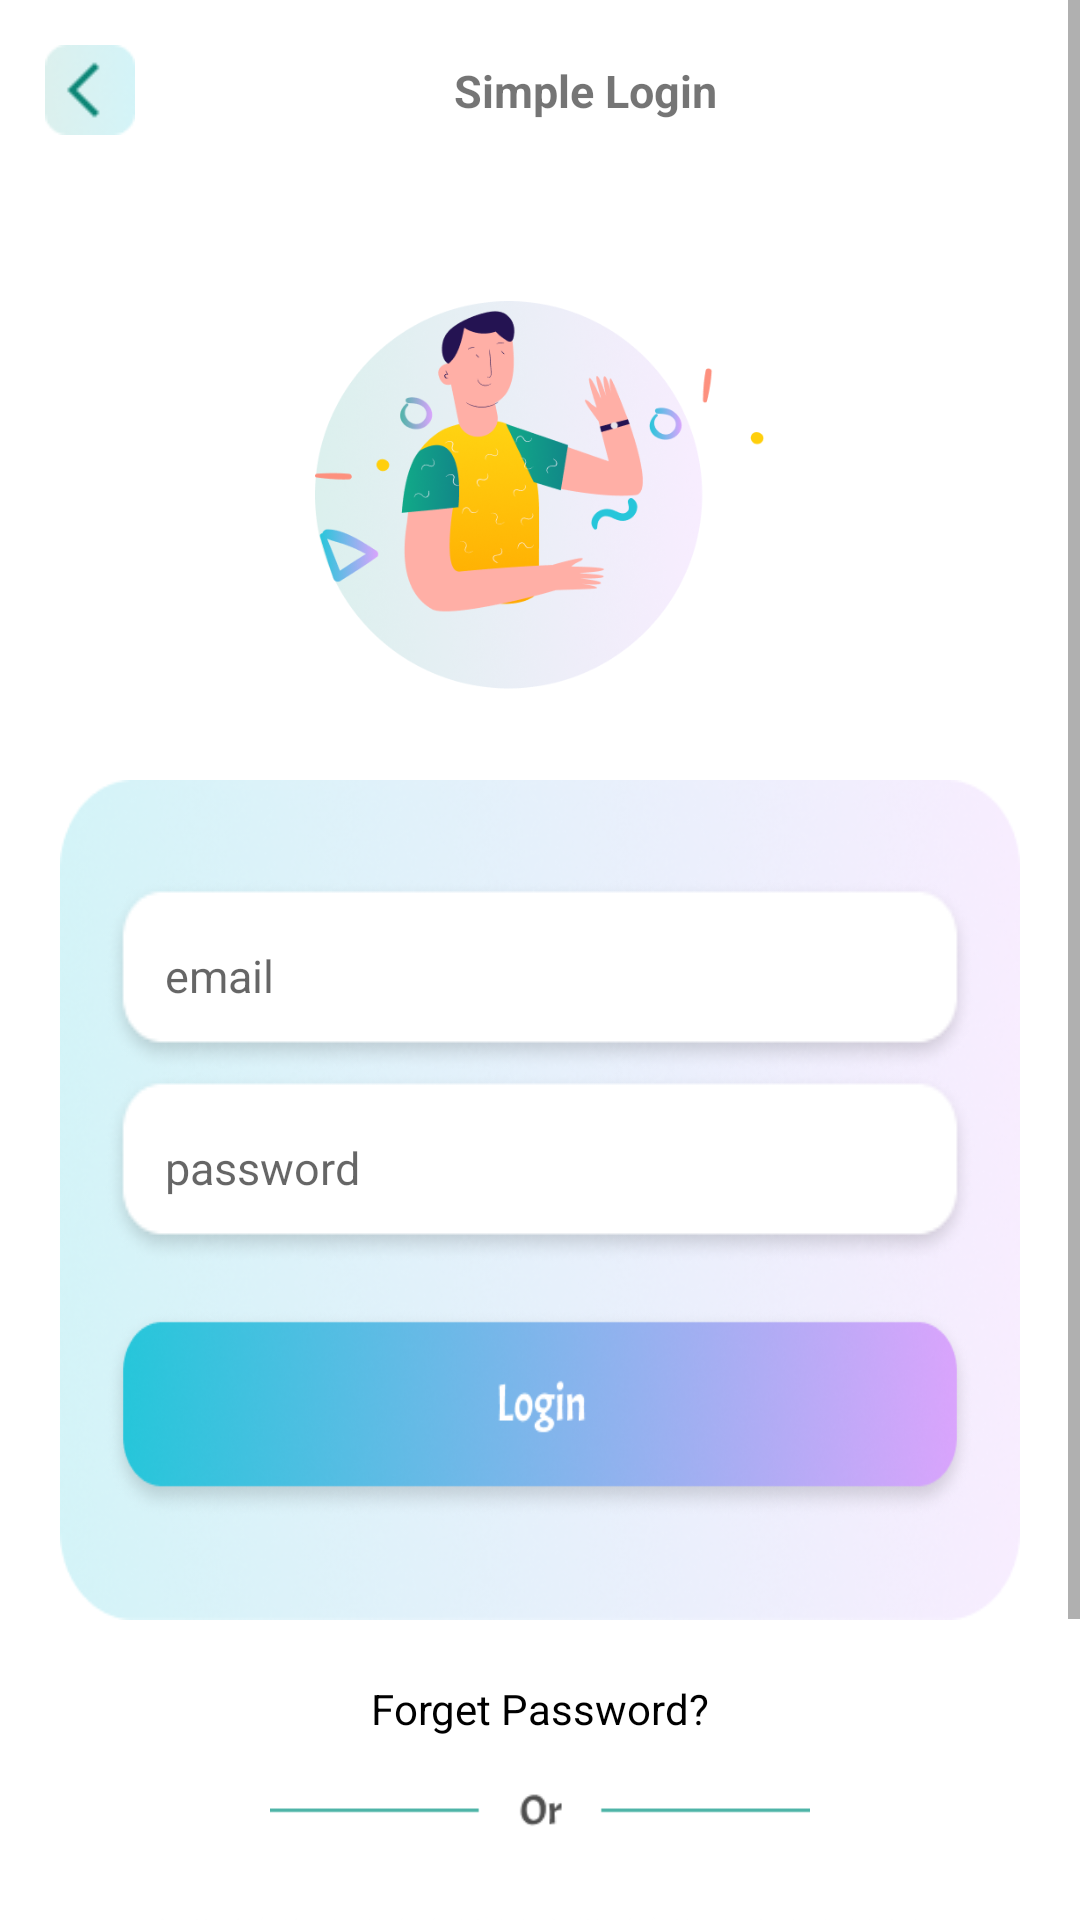

Icons on this 1080x1920 Android screen, each with its box as (x1, y1, x2, y2):
back: (45, 45, 135, 135)
